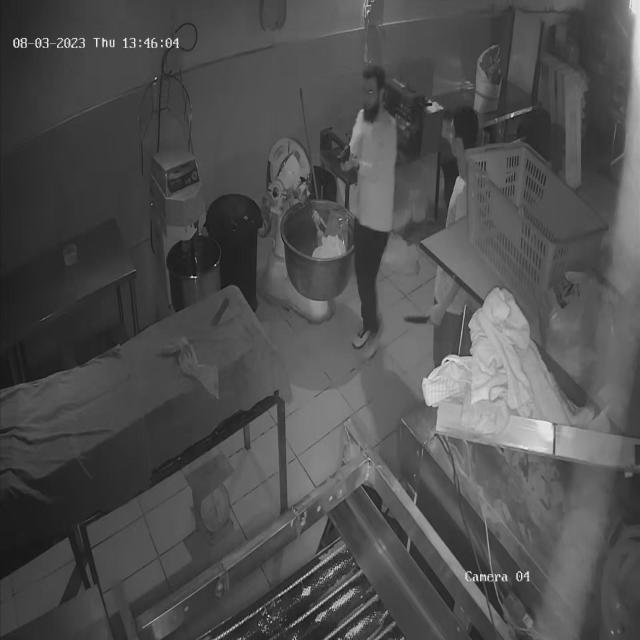Gun: (320, 138, 368, 178)
Knife: (400, 303, 447, 335)
